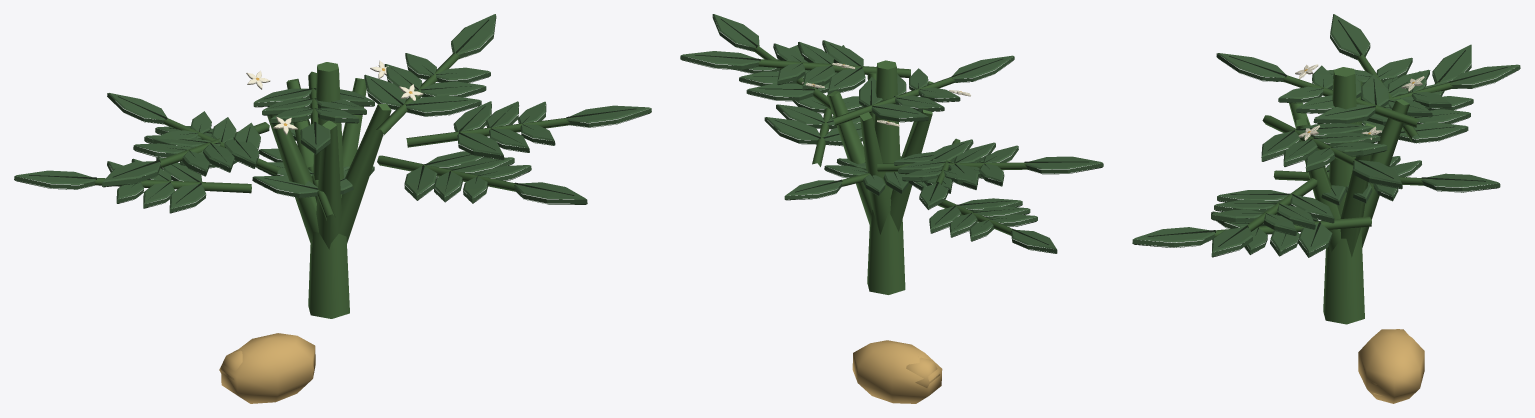
Rendered from potato.glb.
3 renders of one model, left to right at view 1: azimuth 30°, elevation 25°; view 2: azimuth 150°, elevation 25°; view 3: azimuth 270°, elevation 25°, orthographic. The views are drawn at different scales.
Parts seen in each view (by area): view 1: cropLeafInstances, cropStemInstances, cropFruitInstances, cropBloomInstances; view 2: cropLeafInstances, cropStemInstances, cropFruitInstances; view 3: cropLeafInstances, cropStemInstances, cropFruitInstances, cropBloomInstances.
Part boxes in pixels (x1,y1,x2,y2): cropLeafInstances: [14, 14, 651, 220]; cropStemInstances: [267, 62, 391, 318]; cropFruitInstances: [219, 333, 315, 403]; cropBloomInstances: [246, 60, 423, 135]; cropLeafInstances: [680, 14, 1103, 253]; cropStemInstances: [826, 60, 933, 294]; cropFruitInstances: [852, 340, 942, 403]; cropLeafInstances: [1132, 14, 1520, 257]; cropStemInstances: [1288, 67, 1409, 324]; cropFruitInstances: [1358, 329, 1424, 403]; cropBloomInstances: [1295, 64, 1424, 140].
Size of what is drawn, in the model's own units: 1.79 by 1.15 by 1.19.
